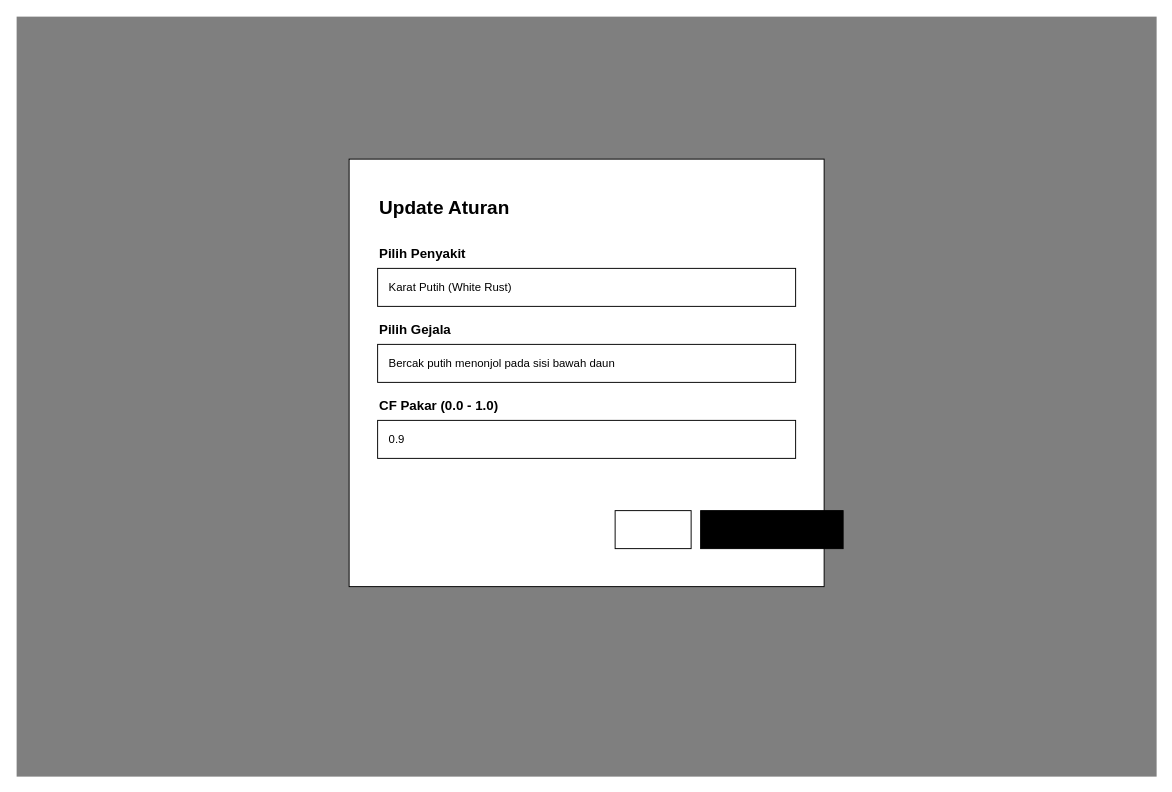
The diagram is 1172 pixels wide and 792 high, and some of its shapes have lost their labels. The shapes that lost their labels are listed below. From the top down, each one's centre as x and y in pixels, then its label:
At point (652, 529): "Batal".
At point (771, 529): "Simpan Perubahan".
